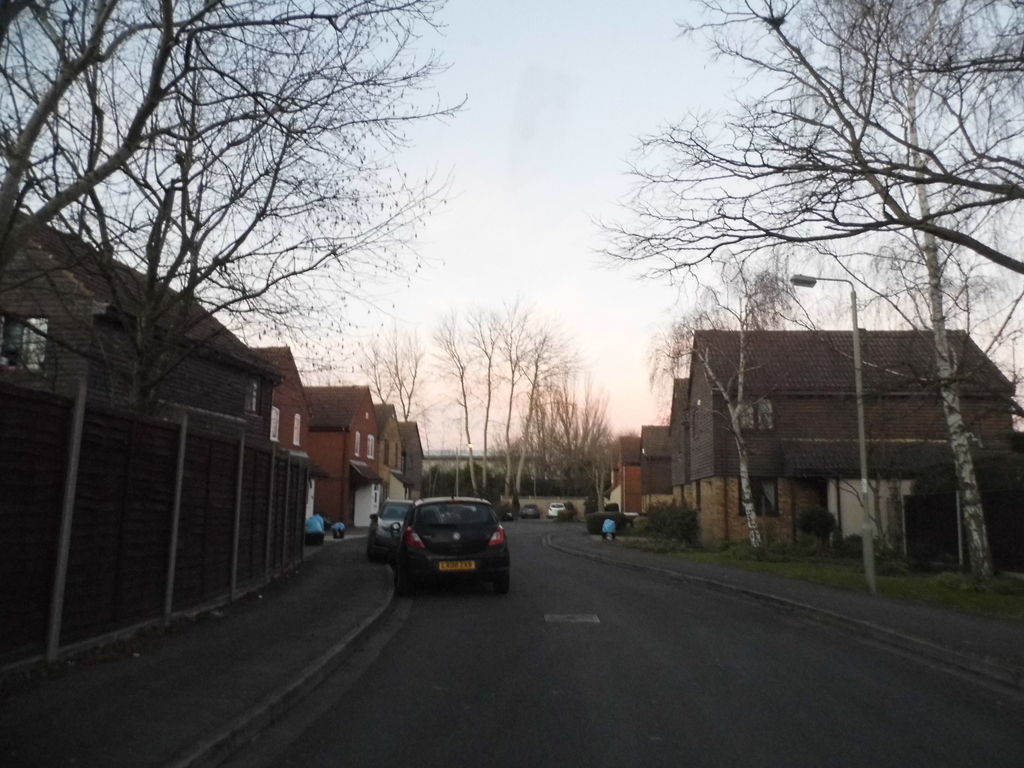cars: (374, 495, 514, 595), (355, 488, 416, 561), (545, 497, 565, 517), (514, 503, 534, 515)
